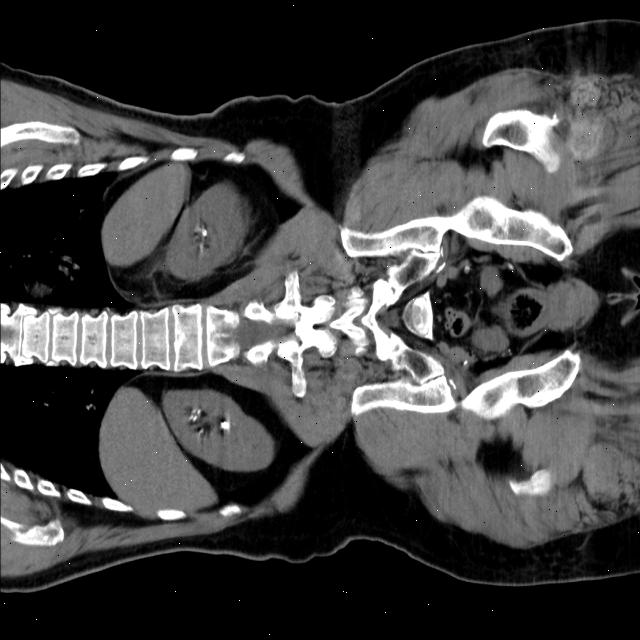kidneystone: (189, 407, 202, 424), (220, 419, 230, 430), (199, 230, 207, 236)
